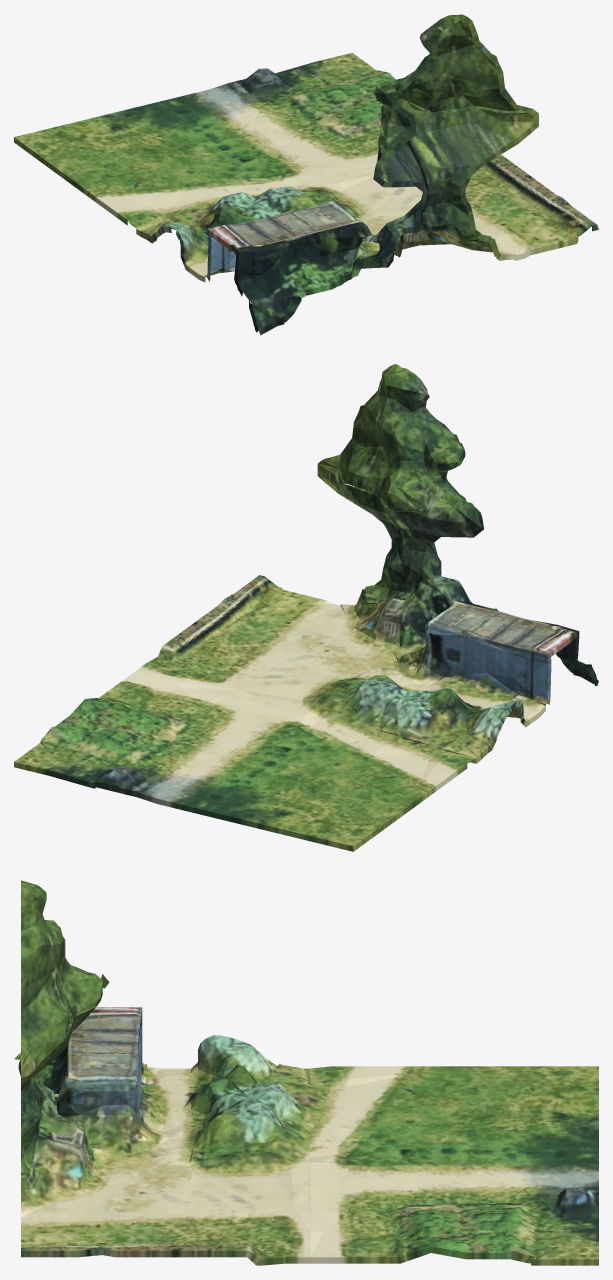
The model's file is BuildingMesh-00066.gltf.
The picture shows the model from 3 angles, top to bottom: view 1: azimuth 30°, elevation 25°; view 2: azimuth 150°, elevation 25°; view 3: azimuth 270°, elevation 25°; orthographic projection. The views are drawn at different scales.
Visible parts, largest first — view 1: BuildingMesh-00066; view 2: BuildingMesh-00066; view 3: BuildingMesh-00066.
Part boxes in pixels (x1=…): BuildingMesh-00066: x1=14, y1=14, x2=598, y2=335; BuildingMesh-00066: x1=14, y1=364, x2=598, y2=851; BuildingMesh-00066: x1=14, y1=880, x2=598, y2=1265.
Bounding box in the file's own units: 1.56 × 1.19 × 1.97.
Materials: 1 (1 with a texture image).
